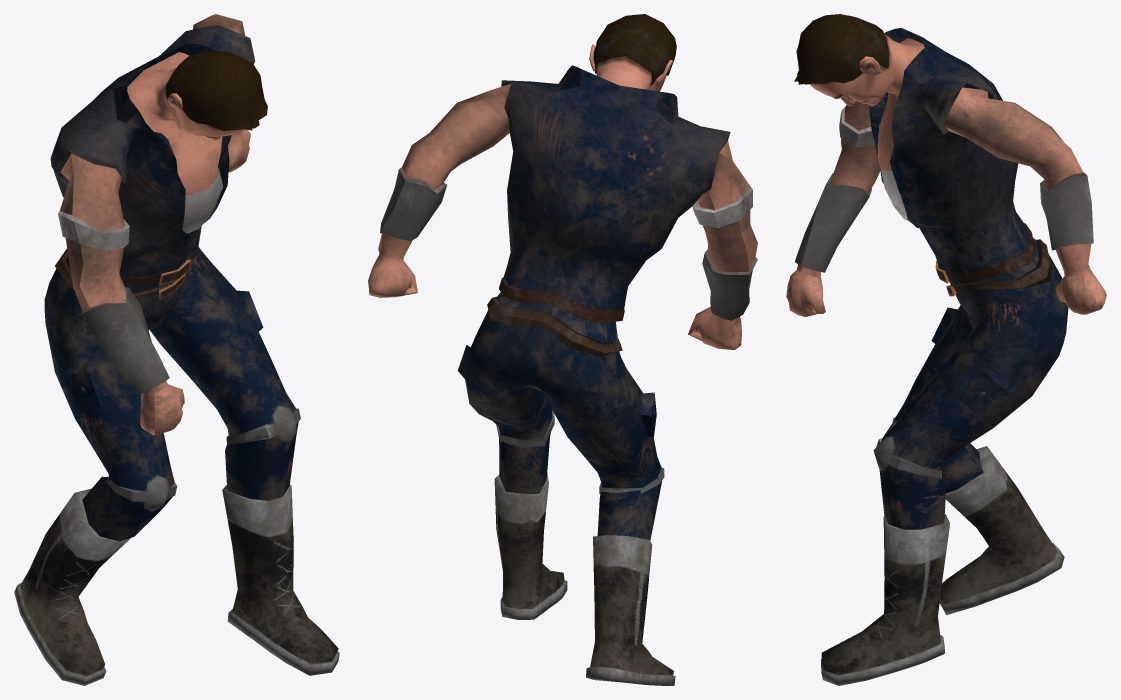
File: Anim_coger_objeto_jugador.0032.obj
3 views of the same model, side by side, from view 1: azimuth 30°, elevation 25°; view 2: azimuth 150°, elevation 25°; view 3: azimuth 270°, elevation 25° (orthographic). The views are drawn at different scales.
Visible parts, largest first — view 1: polySurface1; view 2: polySurface1; view 3: polySurface1.
Boxes of the visible parts, bbox=[...] form: polySurface1: bbox=[14, 14, 339, 685]; polySurface1: bbox=[368, 14, 757, 685]; polySurface1: bbox=[786, 14, 1106, 685].
Bounding box in the file's own units: 3.92 × 8.4 × 3.89.
